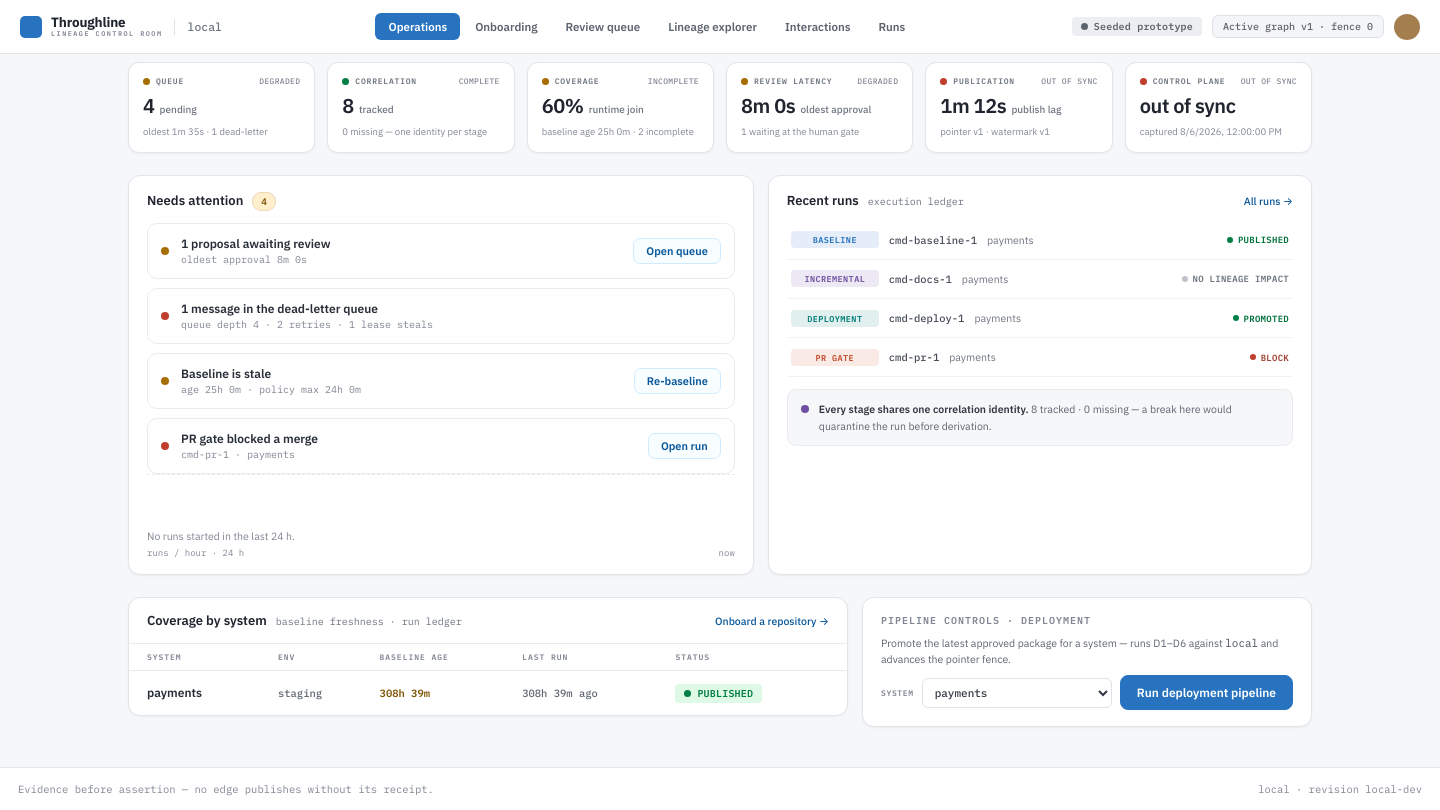
operations deployment control starts the pipeline and reads back a 409 honestly
(page scrolled)
Check: the dropdown labelled "System" shows "payments", box [922, 678, 1112, 708]
Note: First attempt: the system has no approved package yet.
Click the button "Run deployment pipeline" at (1206, 693), box [1120, 675, 1293, 710]
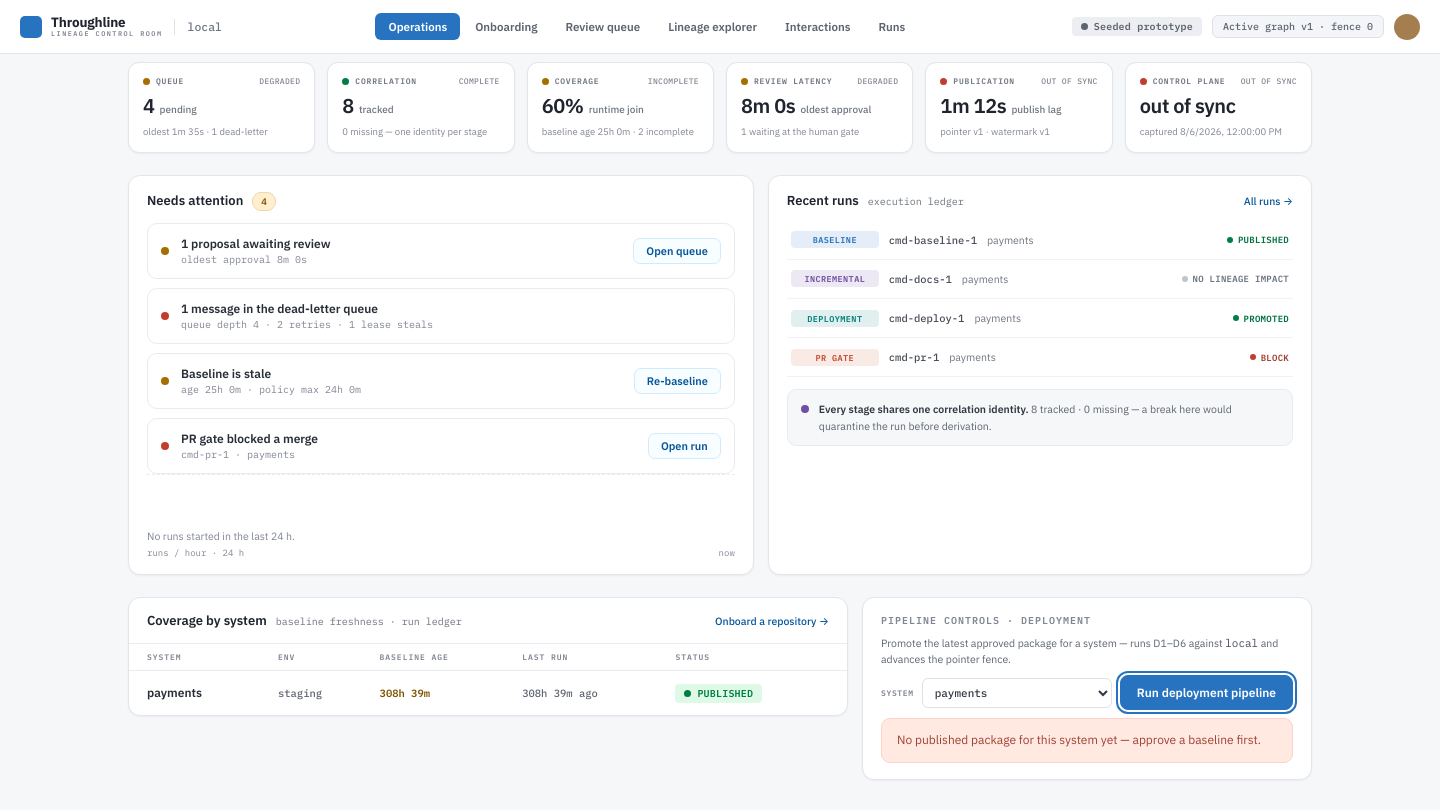
Check: the message reads "No published package for this system yet — approve a baseline first.", box [897, 732, 1261, 747]
Note: Second attempt succeeds and links to the durable deployment run.
Click the button "Run deployment pipeline" at (1206, 693), box [1120, 675, 1293, 710]
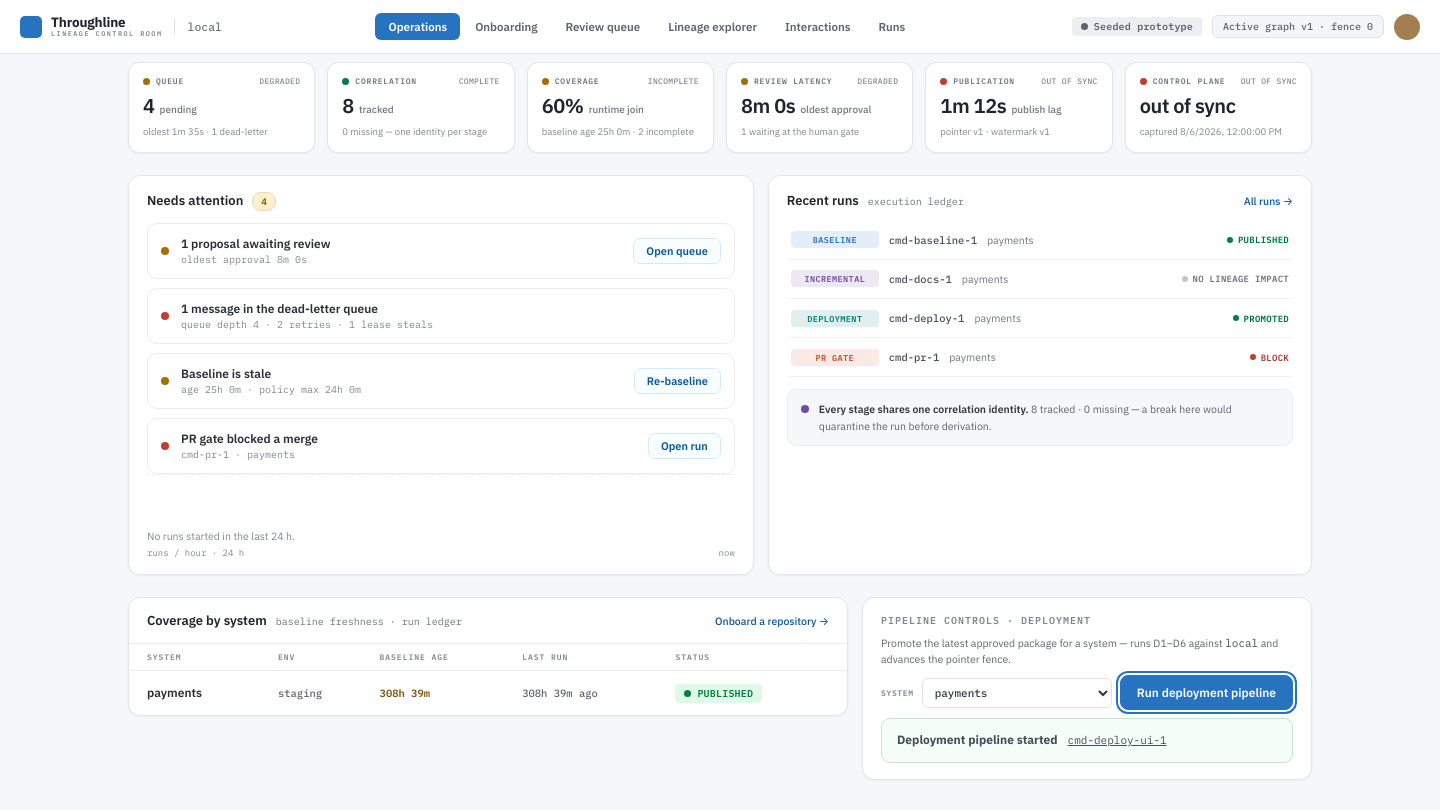
Check: the text "Deployment pipeline started" is shown, box [897, 731, 1058, 750]
